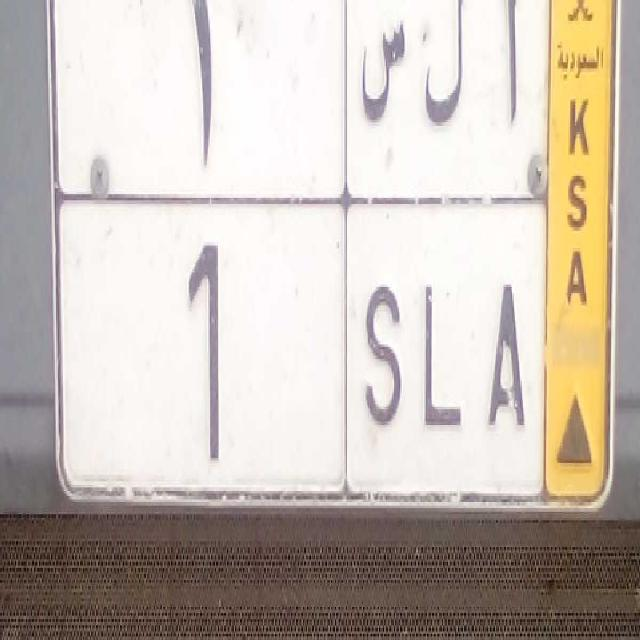license_plate: (54, 187, 548, 519)
